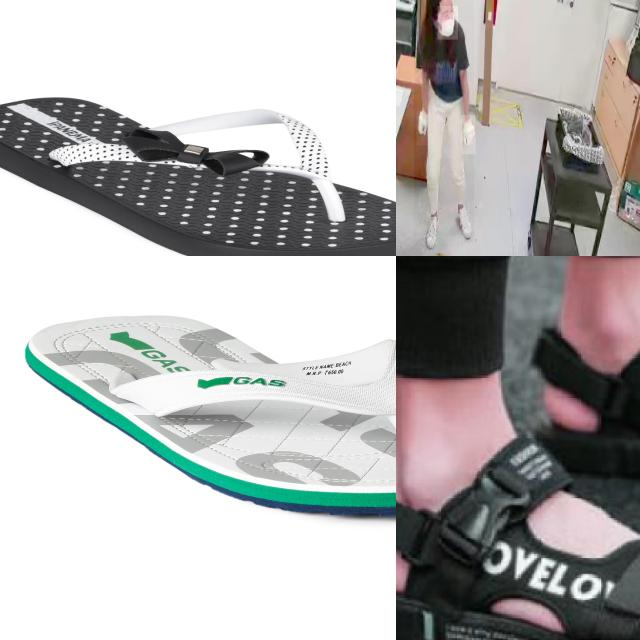Sandals: (22, 312, 396, 520), (0, 94, 396, 256), (396, 402, 640, 640)
face_mask: (438, 6, 458, 40)
hand_glove: (462, 115, 476, 155), (416, 111, 431, 146)
person: (413, 0, 474, 236)
shoes: (452, 192, 474, 244), (421, 203, 443, 253)
